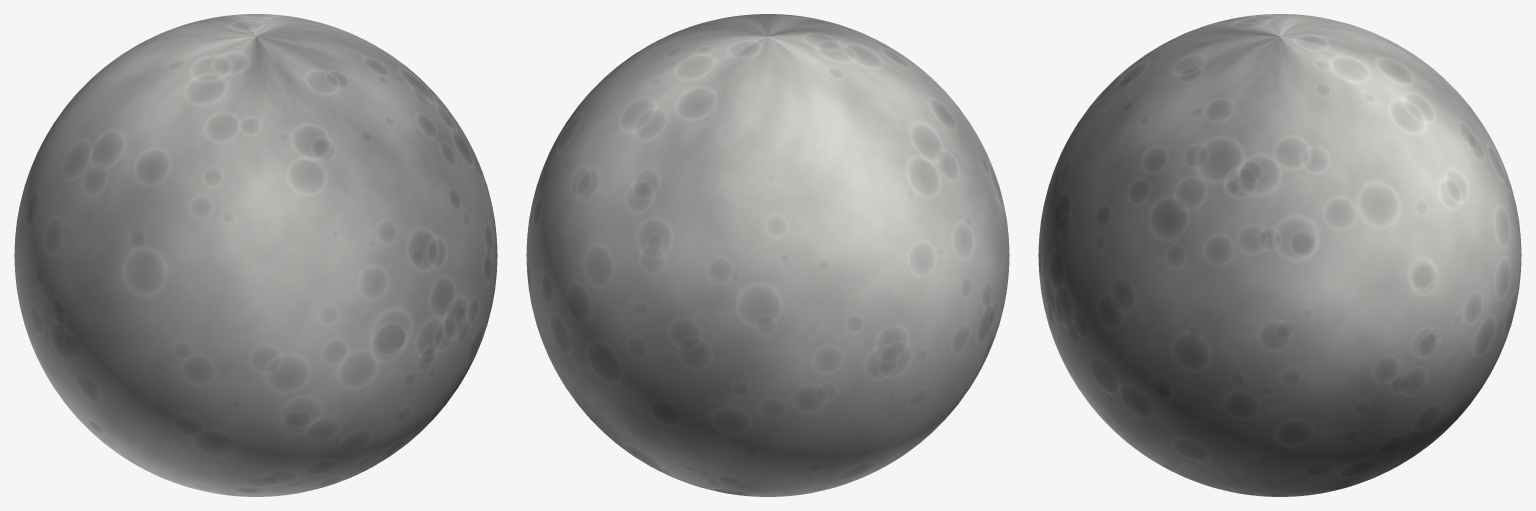
File: luna.obj
3 views of the same model, side by side, from view 1: azimuth 30°, elevation 25°; view 2: azimuth 150°, elevation 25°; view 3: azimuth 270°, elevation 25° (orthographic).
Visible parts, largest first — view 1: Luna; view 2: Luna; view 3: Luna.
Boxes of the visible parts, box(x1,y1,x2,y2) form: Luna: box(14, 14, 497, 496); Luna: box(526, 14, 1009, 496); Luna: box(1038, 14, 1521, 496).
Bounding box in the file's own units: 2 × 2 × 2.
1 material, 1 textured.
